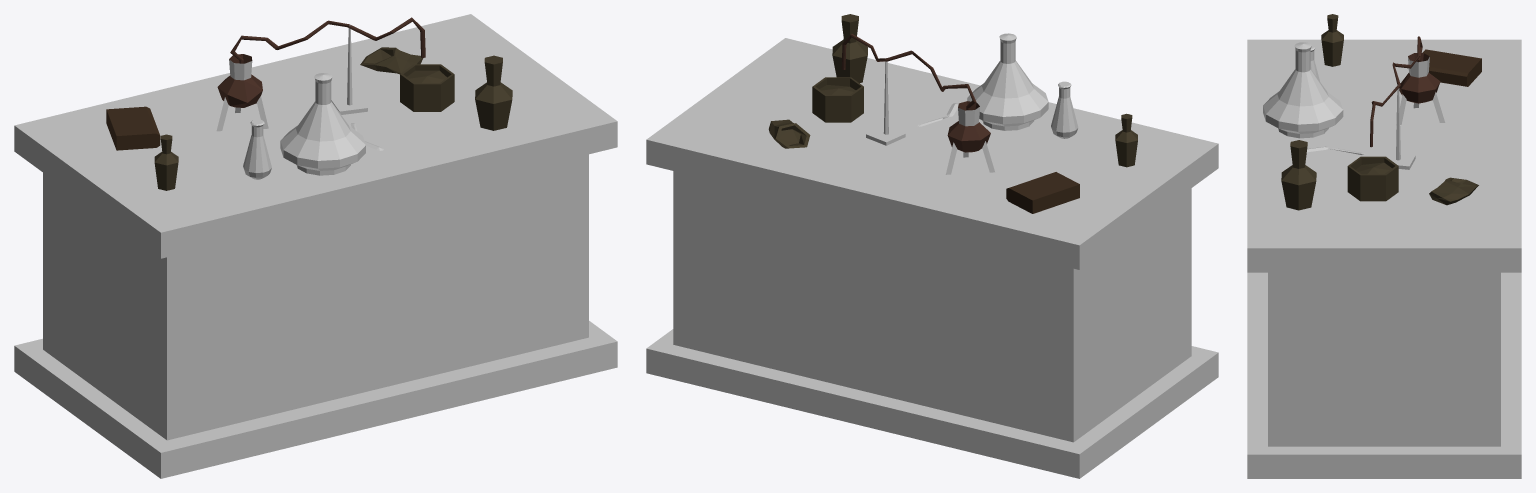
The model's file is LAB_PSI.OBJ.
3 views of the same model, side by side, from view 1: azimuth 30°, elevation 25°; view 2: azimuth 150°, elevation 25°; view 3: azimuth 270°, elevation 25° (orthographic). The views are drawn at different scales.
Visible parts, largest first — view 1: LAB_PSI; view 2: LAB_PSI; view 3: LAB_PSI.
Part boxes in pixels (box(x1,y1,x2,y2)): LAB_PSI: box(14, 14, 617, 478); LAB_PSI: box(646, 14, 1218, 478); LAB_PSI: box(1247, 14, 1521, 478).
Bounding box in the file's own units: 1.83 × 1.31 × 1.02.
